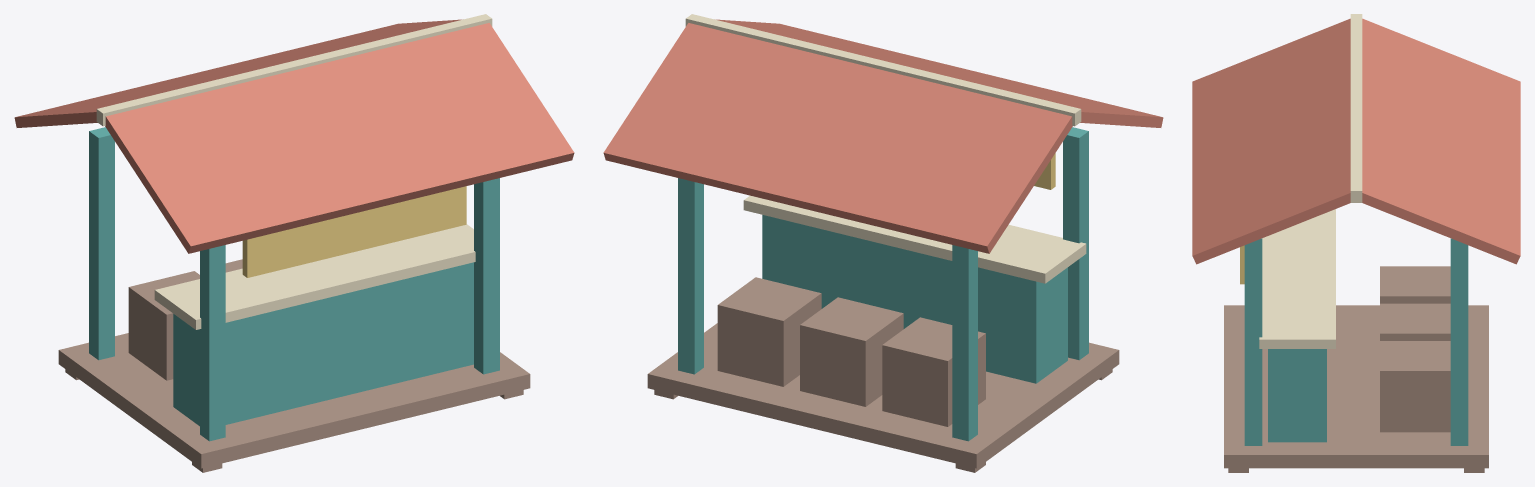
Rendered from 03_SupplyKiosk.glb.
The picture shows the model from 3 angles, left to right: view 1: azimuth 30°, elevation 25°; view 2: azimuth 150°, elevation 25°; view 3: azimuth 270°, elevation 25°; orthographic projection. The views are drawn at different scales.
Parts seen in each view (by area): view 1: 03_SupplyKiosk; view 2: 03_SupplyKiosk; view 3: 03_SupplyKiosk.
Part boxes in pixels (box(x1,y1,x2,y2)): 03_SupplyKiosk: box(14, 14, 574, 472); 03_SupplyKiosk: box(603, 14, 1163, 472); 03_SupplyKiosk: box(1192, 14, 1520, 472).
Size of the model in its own units: 14.2 by 11.15 by 11.14.
